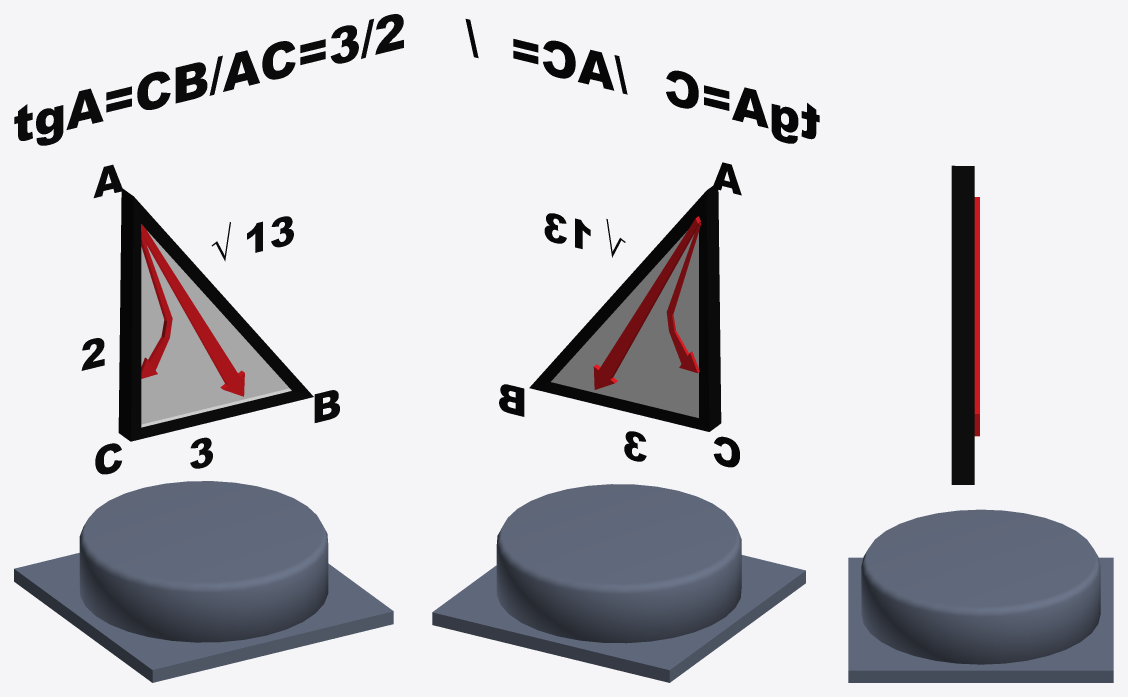
The picture shows the model from 3 angles, left to right: view 1: azimuth 30°, elevation 25°; view 2: azimuth 150°, elevation 25°; view 3: azimuth 270°, elevation 25°; orthographic projection. The views are drawn at different scales.
Parts seen in each view (by area): view 1: Cube, Cube.001, Text.008, Cube.002, Cube.003, Text.004, Text.001; view 2: Cube, Cube.001, Text.008, Cube.002, Cube.003, Text.004, Text.001; view 3: Cube, Cube.001, Cube.002.
Part boxes in pixels (box(x1,y1,x2,y2)): Cube: box(14, 481, 393, 682); Cube.001: box(118, 188, 313, 441); Text.008: box(14, 14, 403, 145); Cube.002: box(141, 224, 244, 396); Cube.003: box(141, 232, 172, 378); Text.004: box(211, 216, 293, 261); Text.001: box(314, 390, 339, 422); Cube: box(432, 484, 805, 682); Cube.001: box(529, 186, 721, 431); Text.008: box(465, 19, 819, 143); Cube.002: box(593, 216, 700, 389); Cube.003: box(666, 223, 700, 373); Text.004: box(544, 213, 625, 257); Text.001: box(499, 384, 524, 416); Cube: box(848, 509, 1113, 682); Cube.001: box(951, 165, 974, 484); Cube.002: box(974, 197, 979, 436).
Bounding box in the file's own units: 14.76 × 19.9 × 9.09.
